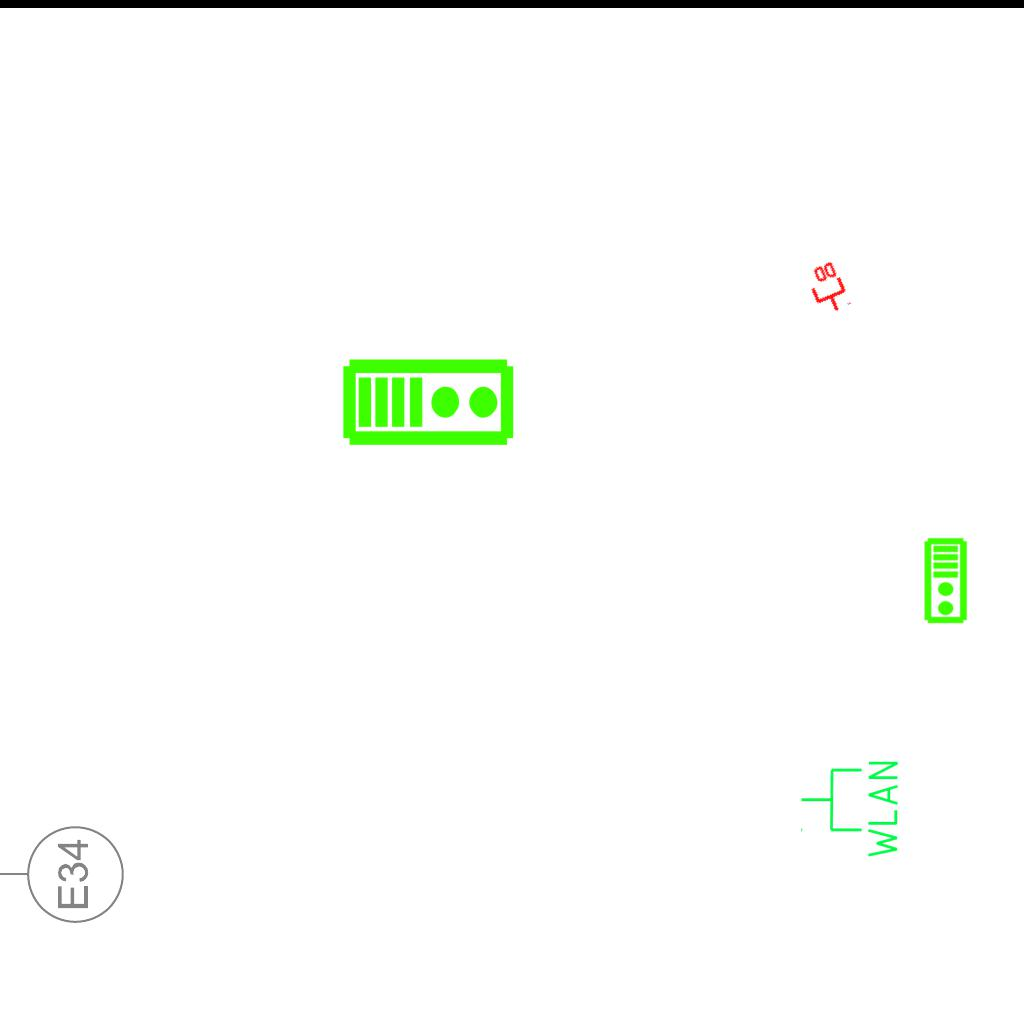Datenanschluss_zweifach: (801, 258, 853, 319)
Gegensprechanlage_mit_Video: (341, 353, 517, 448), (923, 537, 970, 625)
WLAN: (798, 757, 902, 862)
